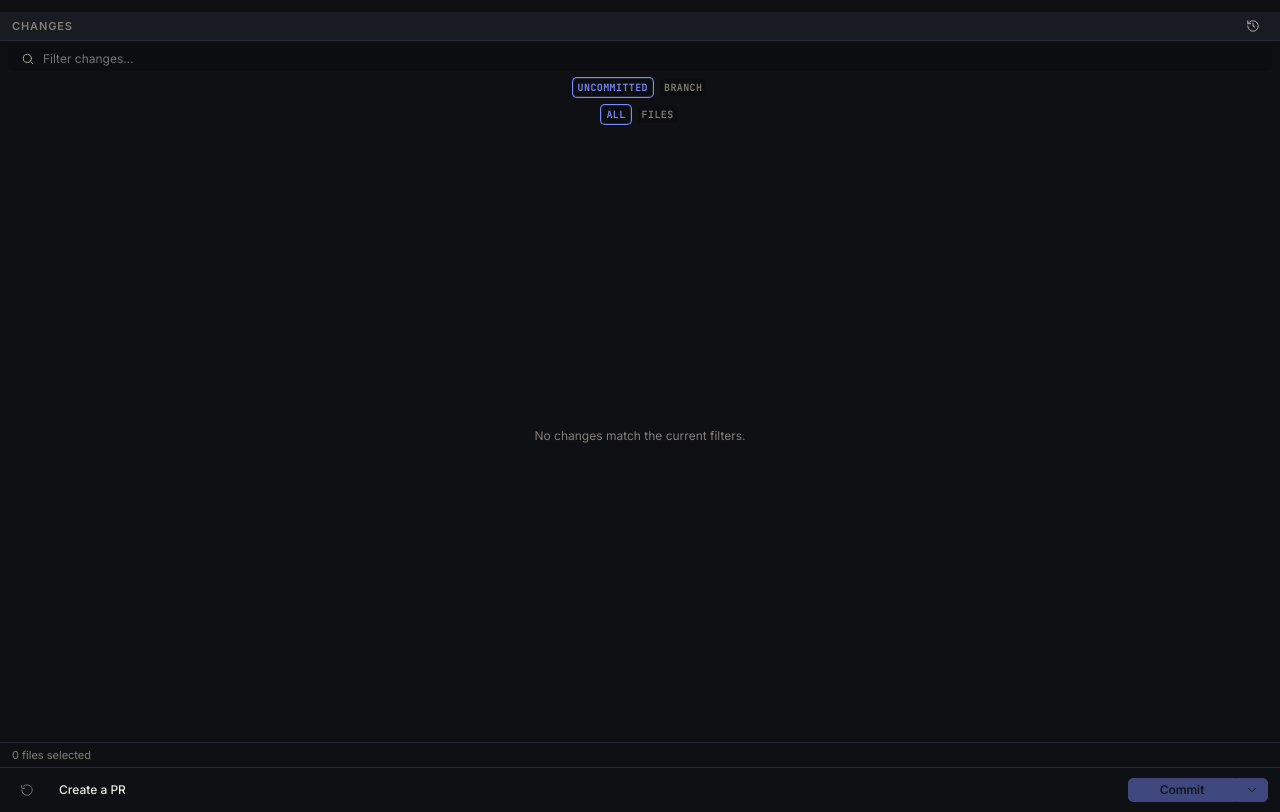
Scenario: folder and group counts (CHG-FR-50..FR-53) › counts each group's own subtree, and only its own (CHG-FR-50, CHG-FR-51, CHG-FR-26)
Click the radio button labelled "Files" at {"x": 658, "y": 114}, box [636,104,680,125]
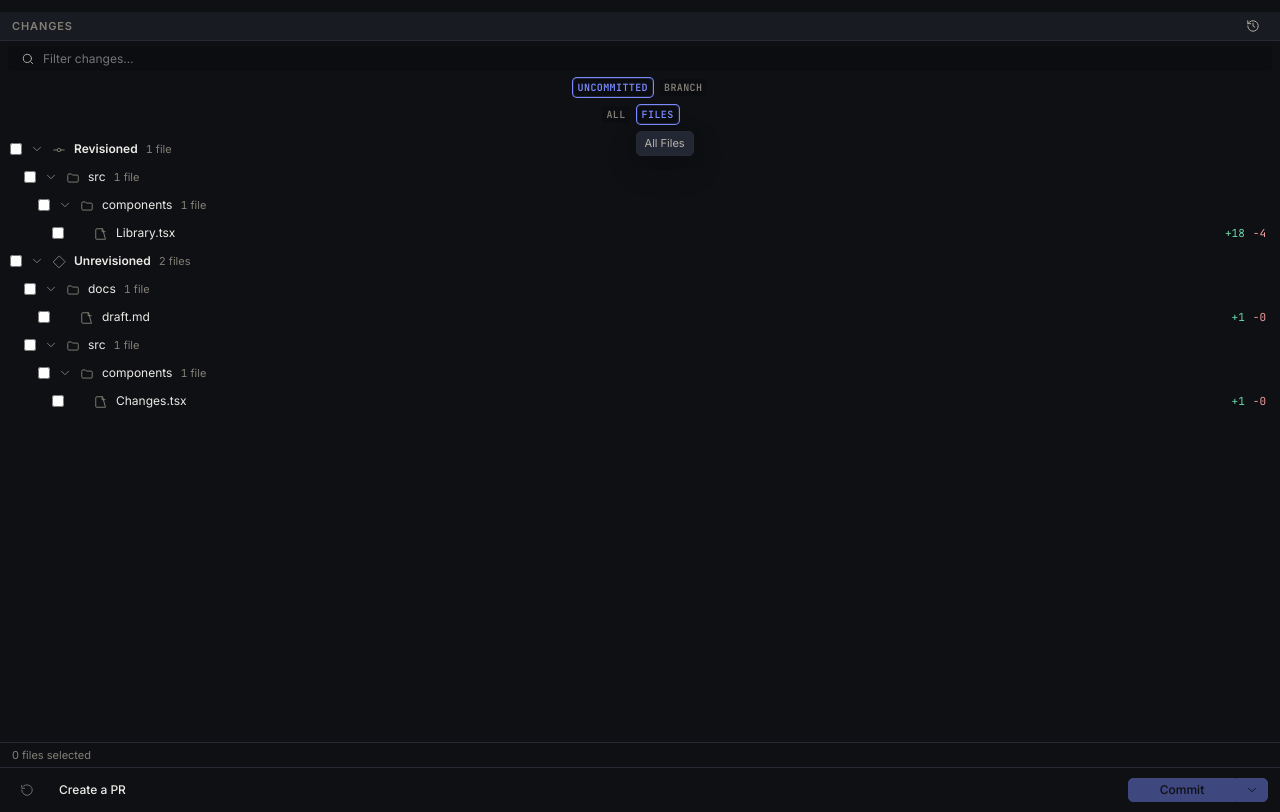
Result: the text "Unrevisioned" is shown at [74,252,151,270]
Result: the 1st text with class "tree-row__count" reads "1 file" at [146,141,172,157]
Result: the text with class "tree-row__count" reads "2 files" at [159,253,190,269]
